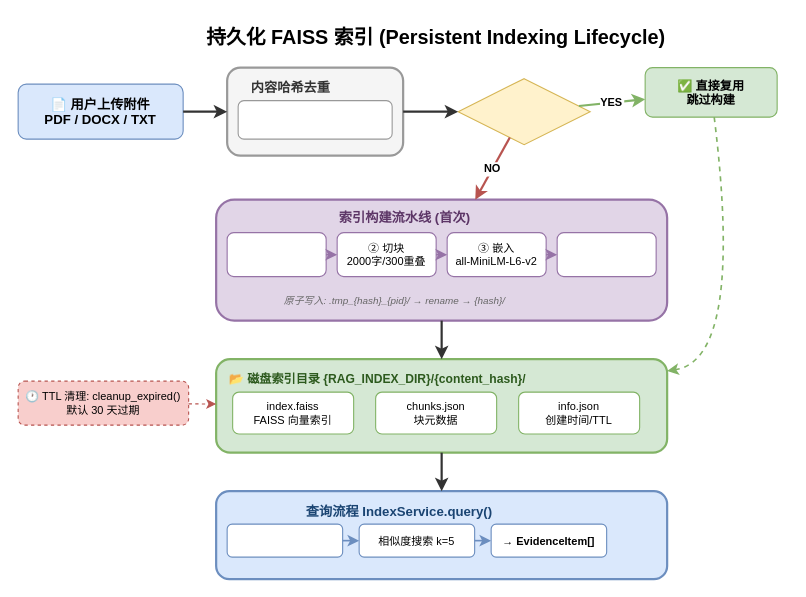
This 806x597 diagram has some shape labels left out. Here are the shapes that lost their labels. From the top down, the centre of each, then its label:
At point 314,119: "SHA-256(file_bytes) → content_hash = doc_id".
At point 523,111: "索引已存在?".
At point 276,254: "① 解析 PDF/DOCX→文本".
At point 606,254: "④ 持久化 原子写入磁盘".
At point 284,540: "加载 FAISS 索引".
